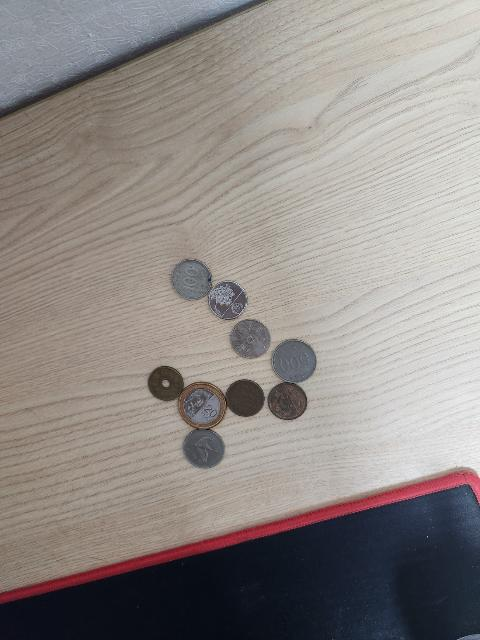coin: (177, 384, 227, 431), (272, 338, 318, 382), (172, 258, 213, 302), (205, 279, 247, 319), (184, 428, 224, 468), (268, 382, 308, 420), (231, 322, 271, 358), (225, 380, 264, 416), (148, 364, 182, 402)
